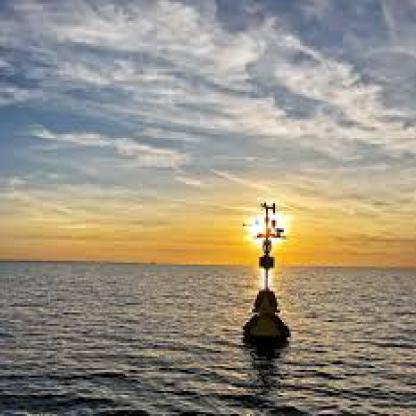buoy: (232, 193, 302, 354)
